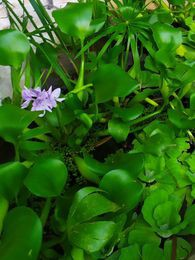water_hyacinth: (0, 64, 195, 260)
